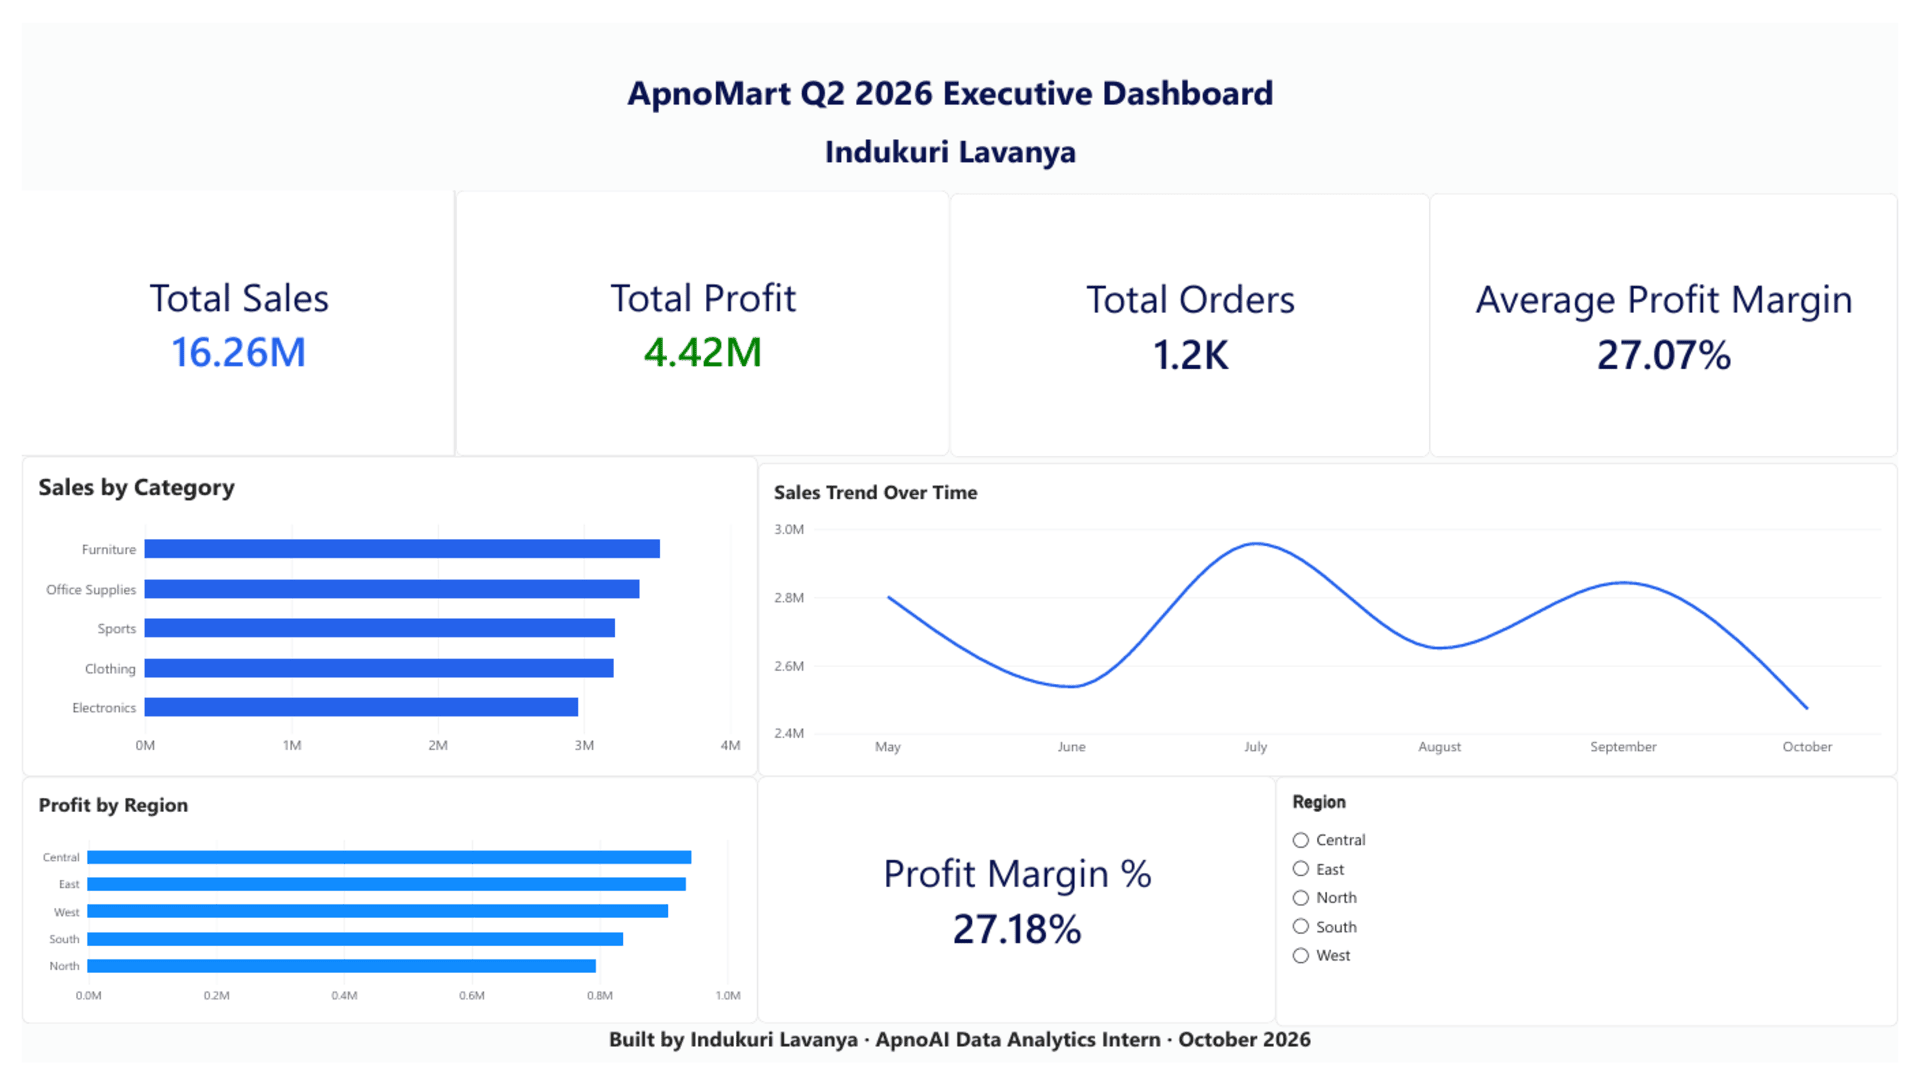

What the dashboard file says about the page in this screenshot:
{"tool":"powerbi","page":{"name":"Page 1","canvas":[1920,1080],"ordinal":0},"visuals":[{"type":"textbox","box":[10,0,280,280],"z":0},{"type":"textbox","title":"ApnoMart Q2 2026 Executive Dashboard","box":[460.5,47.7,980.6,195.6],"z":1000},{"type":"cardVisual","fields":{"Data":["Sum(apnomart-sales-data.Sales)"]},"box":[0,174.2,443.8,276.8],"z":2000},{"type":"cardVisual","fields":{"Data":["Sum(apnomart-sales-data.Profit)"]},"box":[443.8,174.2,505.8,276.8],"z":3000},{"type":"cardVisual","fields":{"Data":["Count(apnomart-sales-data.Order_ID)"]},"box":[949.6,176.6,491.5,274.4],"z":4000},{"type":"cardVisual","fields":{"Data":["apnomart-sales-data.Avg Profit Margin Display"]},"box":[1441.1,176.6,479.6,274.4],"z":5000},{"type":"clusteredBarChart","title":"Sales by Category","fields":{"Category":["apnomart-sales-data.Category"],"Y":["Sum(apnomart-sales-data.Sales)"]},"box":[0,450,753.3,333.3],"z":6000},{"type":"lineChart","title":"Sales Trend Over Time","fields":{"Category":["apnomart-sales-data.Order_Date.Variation.Date Hierarchy.Month"],"Y":["Sum(apnomart-sales-data.Sales)"]},"box":[753.3,456.7,1166.7,326.7],"z":7000},{"type":"clusteredBarChart","title":"Profit by Region","fields":{"Category":["apnomart-sales-data.Region"],"Y":["Sum(apnomart-sales-data.Profit)"]},"box":[0,783.3,753.3,256.7],"z":8000},{"type":"listSlicer","fields":{"Values":["apnomart-sales-data.Region"]},"box":[1283.3,783.3,636.7,260],"z":9000},{"type":"textbox","box":[0,1040,1920,40],"z":10000},{"type":"cardVisual","fields":{"Data":["apnomart-sales-data.Profit Margin %"]},"box":[753.3,783.3,530,256.7],"z":10001}]}

Visuals, with their boxes in screenshot pixels (x1, y1, x2, y2), scaled from the page's 1920x1080 canvas onto the 1920x1080 screenshot:
textbox: {"left": 10, "top": 0, "right": 290, "bottom": 280}
"ApnoMart Q2 2026 Executive Dashboard" textbox: {"left": 460, "top": 48, "right": 1441, "bottom": 243}
cardVisual - Sum(apnomart-sales-data.Sales): {"left": 0, "top": 174, "right": 444, "bottom": 451}
cardVisual - Sum(apnomart-sales-data.Profit): {"left": 444, "top": 174, "right": 950, "bottom": 451}
cardVisual - Count(apnomart-sales-data.Order_ID): {"left": 950, "top": 177, "right": 1441, "bottom": 451}
cardVisual - apnomart-sales-data.Avg Profit Margin Display: {"left": 1441, "top": 177, "right": 1919, "bottom": 451}
"Sales by Category" clusteredBarChart: {"left": 0, "top": 450, "right": 753, "bottom": 783}
"Sales Trend Over Time" lineChart: {"left": 753, "top": 457, "right": 1919, "bottom": 783}
"Profit by Region" clusteredBarChart: {"left": 0, "top": 783, "right": 753, "bottom": 1040}
listSlicer - apnomart-sales-data.Region: {"left": 1283, "top": 783, "right": 1919, "bottom": 1043}
textbox: {"left": 0, "top": 1040, "right": 1919, "bottom": 1079}
cardVisual - apnomart-sales-data.Profit Margin %: {"left": 753, "top": 783, "right": 1283, "bottom": 1040}
